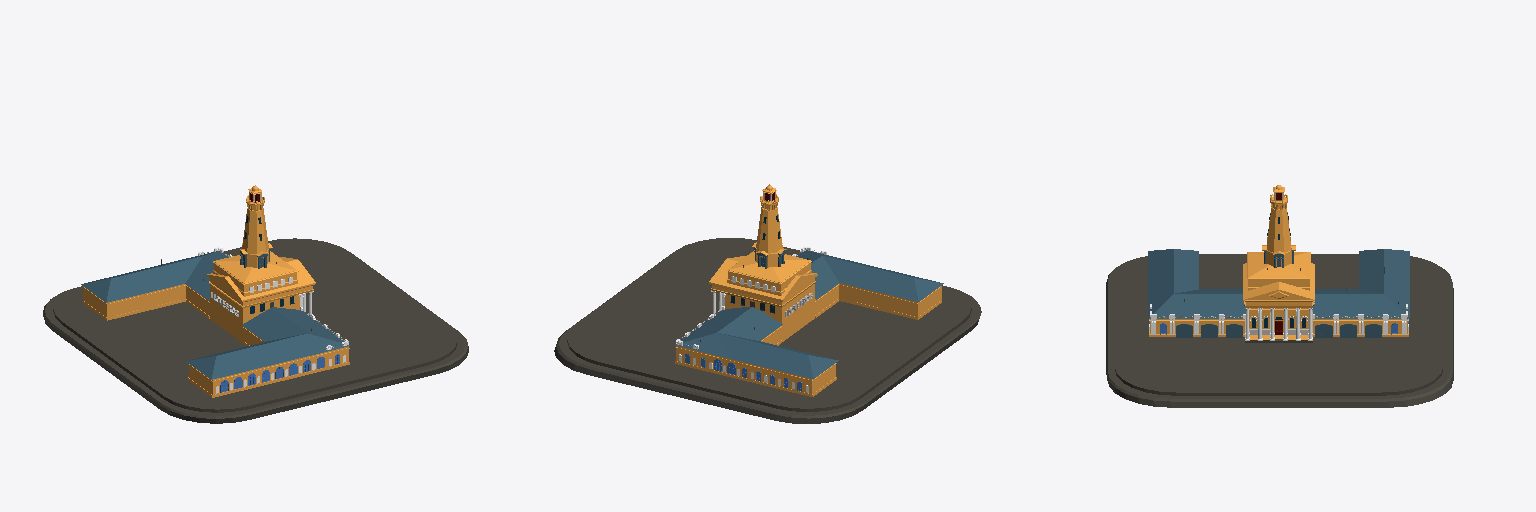
Rendered from Tower.obj.
The picture shows the model from 3 angles: view 1: azimuth 30°, elevation 25°; view 2: azimuth 150°, elevation 25°; view 3: azimuth 270°, elevation 25°; orthographic projection.
Parts seen in each view (by area): view 1: Circle; view 2: Circle; view 3: Circle.
Part boxes in pixels (x1,y1,x2,y2): Circle: (43, 185, 468, 423); Circle: (554, 184, 981, 423); Circle: (1106, 185, 1453, 407).
Size of the model in its own units: 10.42 by 5.18 by 10.41.